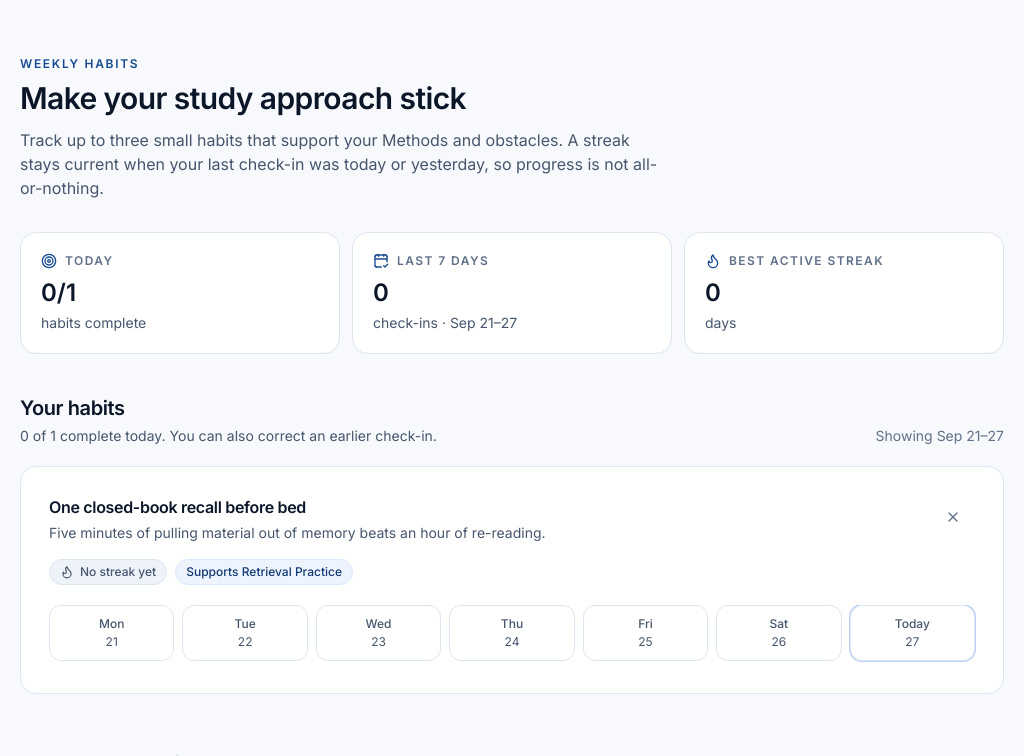
TrackerView › records today's check-in and protects habit history before removal
This screenshot has width=1024, height=756.
Check: the list item "One closed-book recall before bed" is shown, box [20,466,1004,694]
What coordinates should you click on to do the following:
click the button "Today 27"
I would click on:
 (912, 633)
Its box is [850,605,975,661].
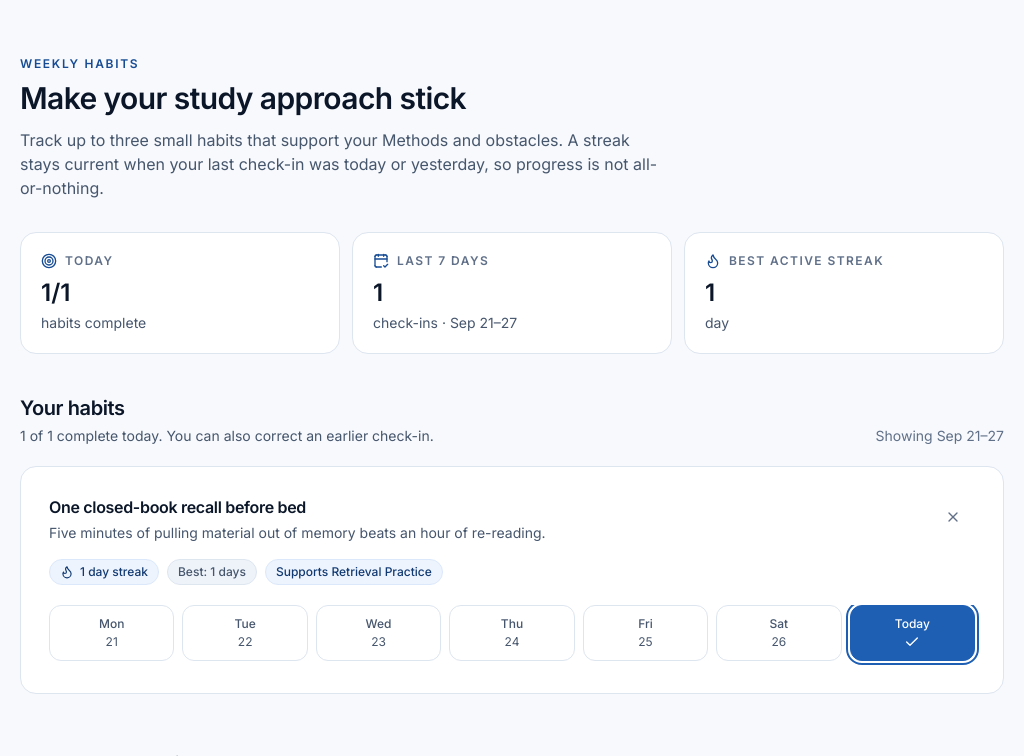
Check: the button "Today" is pressed, box [850,605,975,661]
What coordinates should you click on to do the following:
click the button named "Stop tracking: One closed-book recall before bed"
I would click on:
 (953, 517)
Its box is [931,495,975,539].
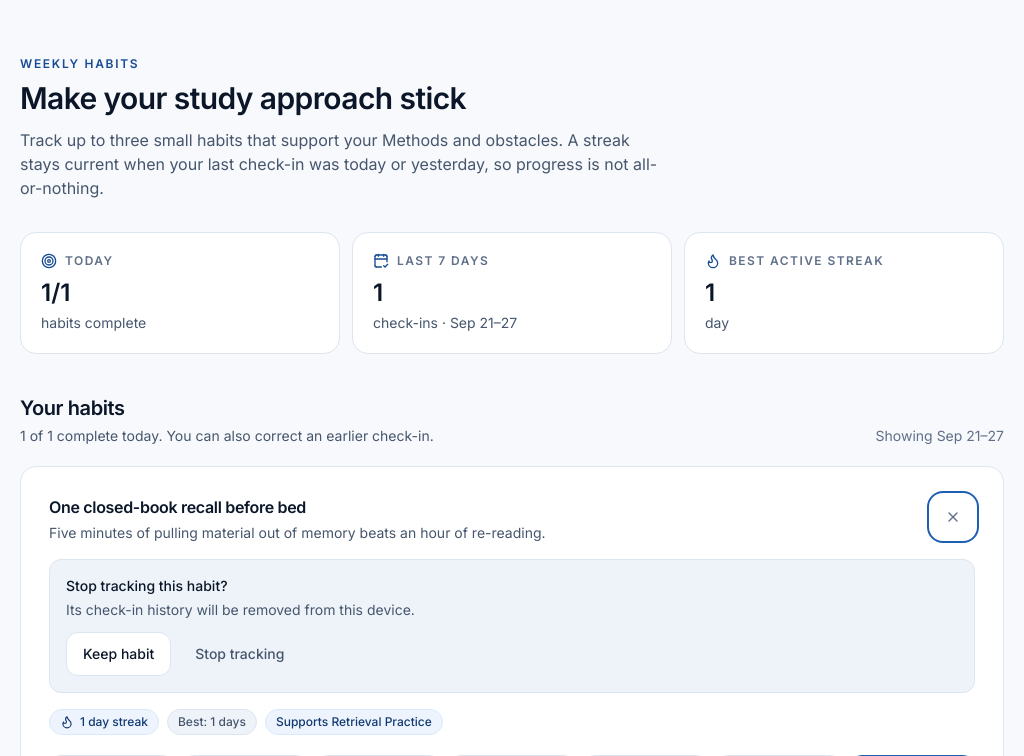
What coordinates should you click on to do the following:
click the button "Keep habit"
I would click on:
 (119, 654)
Its box is [66,632,171,676].
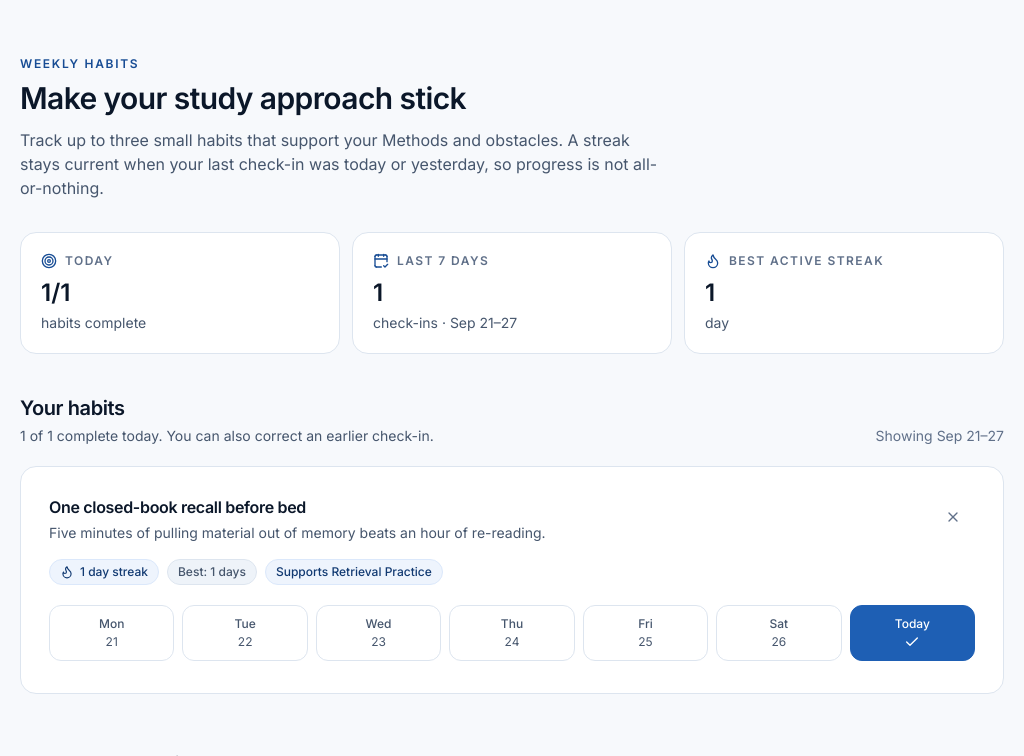
What coordinates should you click on to do the following:
click the button named "Stop tracking: One closed-book recall before bed"
I would click on:
 (953, 517)
Its box is [931,495,975,539].
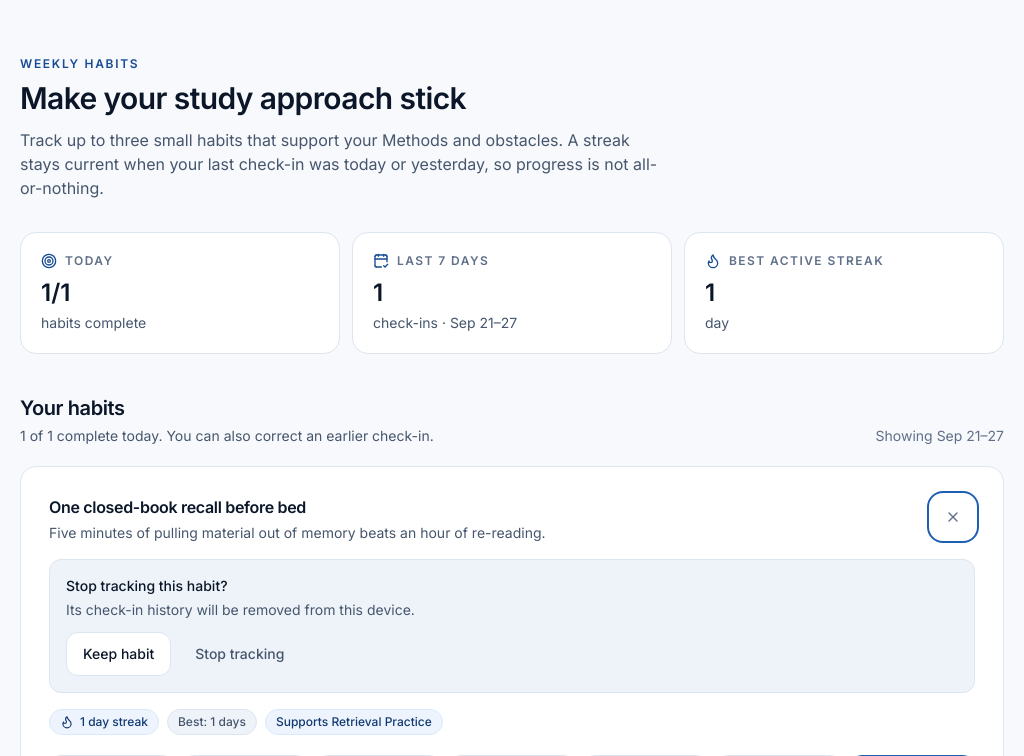
What coordinates should you click on to do the following:
click the button "Stop tracking"
I would click on:
 (240, 654)
Its box is [179,632,300,676].
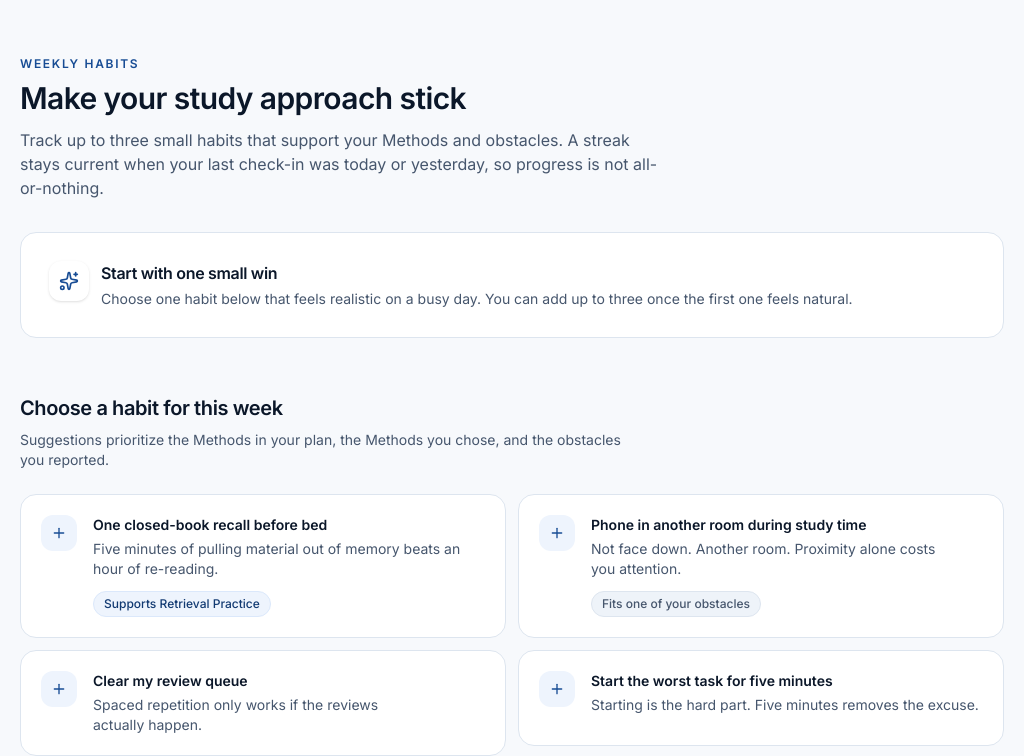
Check: the heading "Start with one small win" is shown, box [101,263,277,283]
